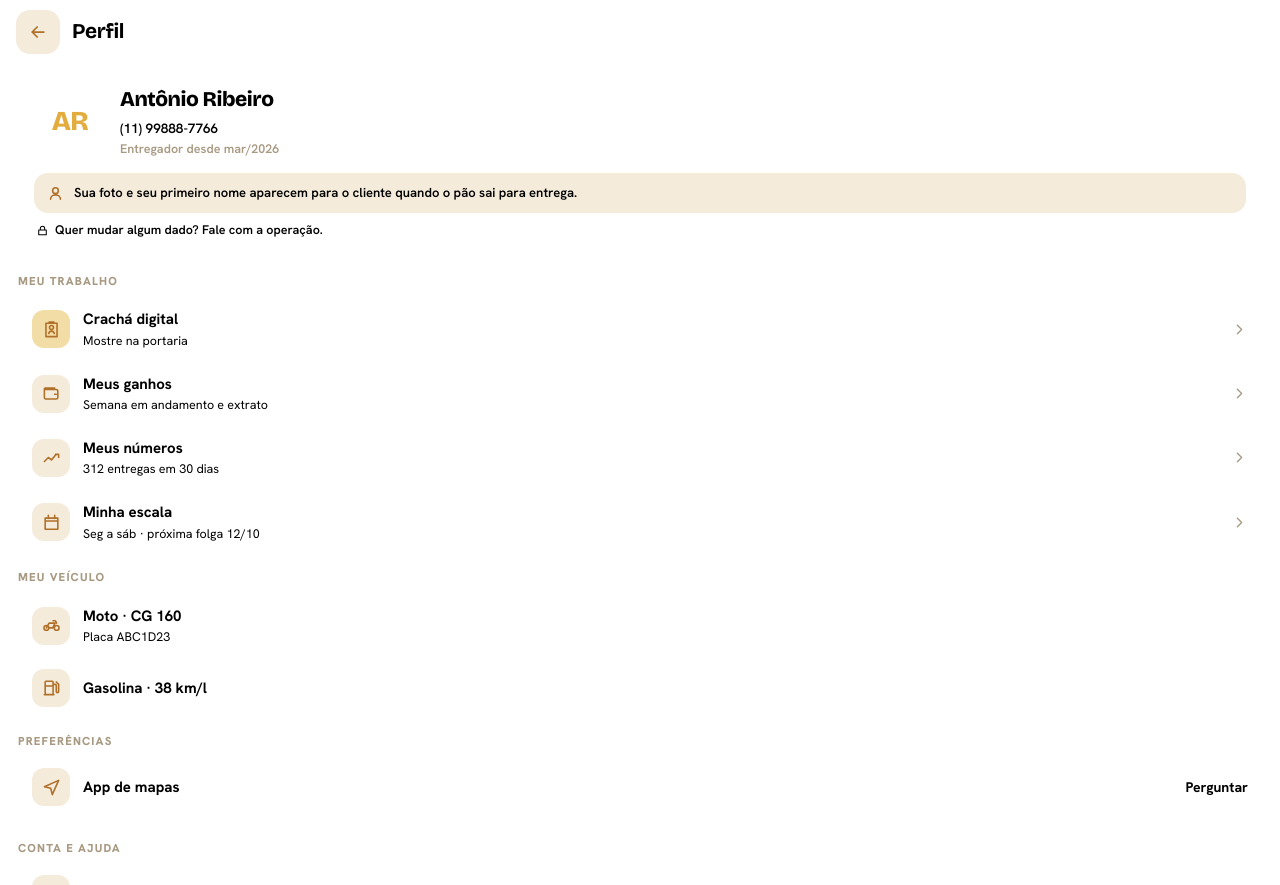
Test case: E14 · Perfil › app de mapas: escolhe e salva a preferência
Expected: the text "Perguntar" is shown, [1185,777,1248,798]
Click the button "App de mapas Perguntar".
click(51, 787)  # box [16,757,1264,817]
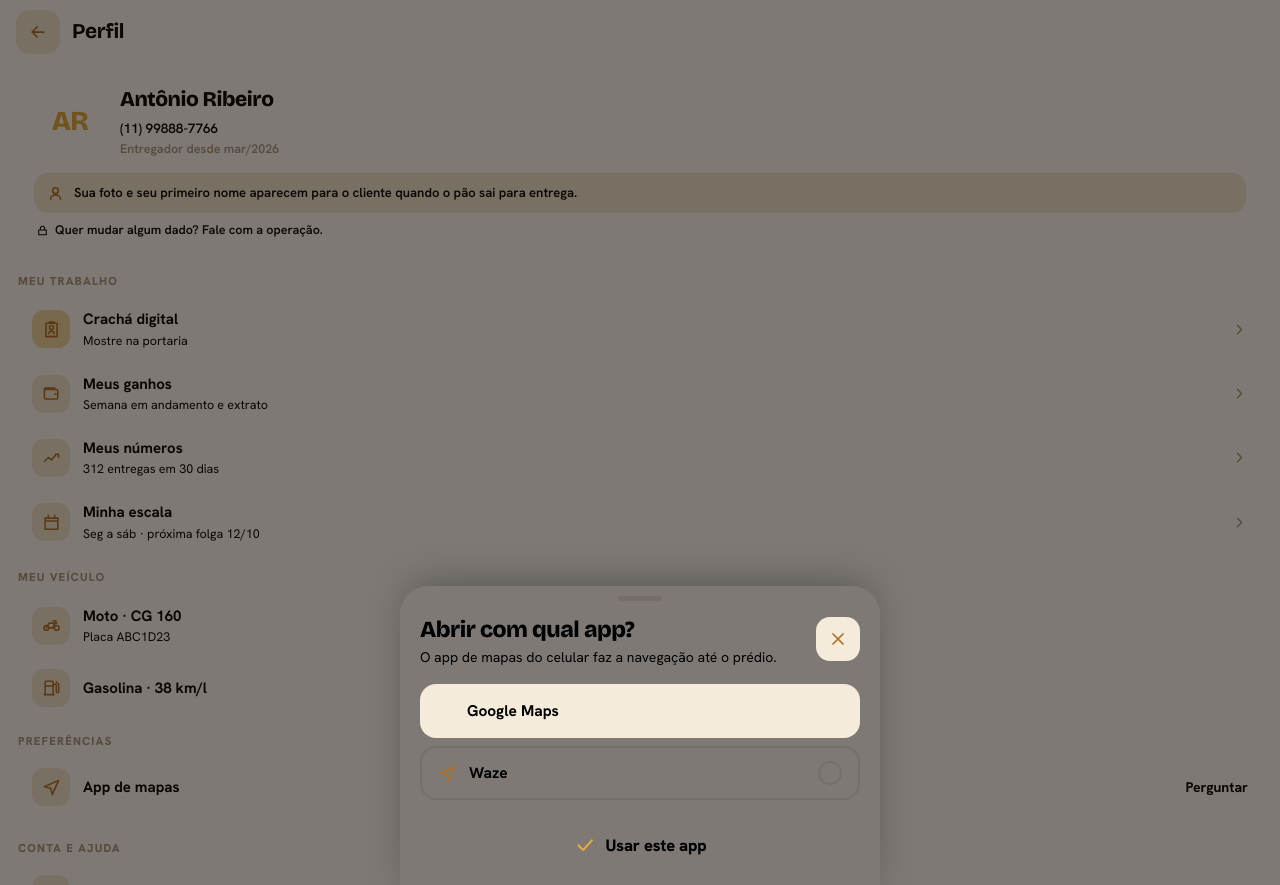
Click the button "Usar este app".
click(640, 845)  # box [420,816,860,874]
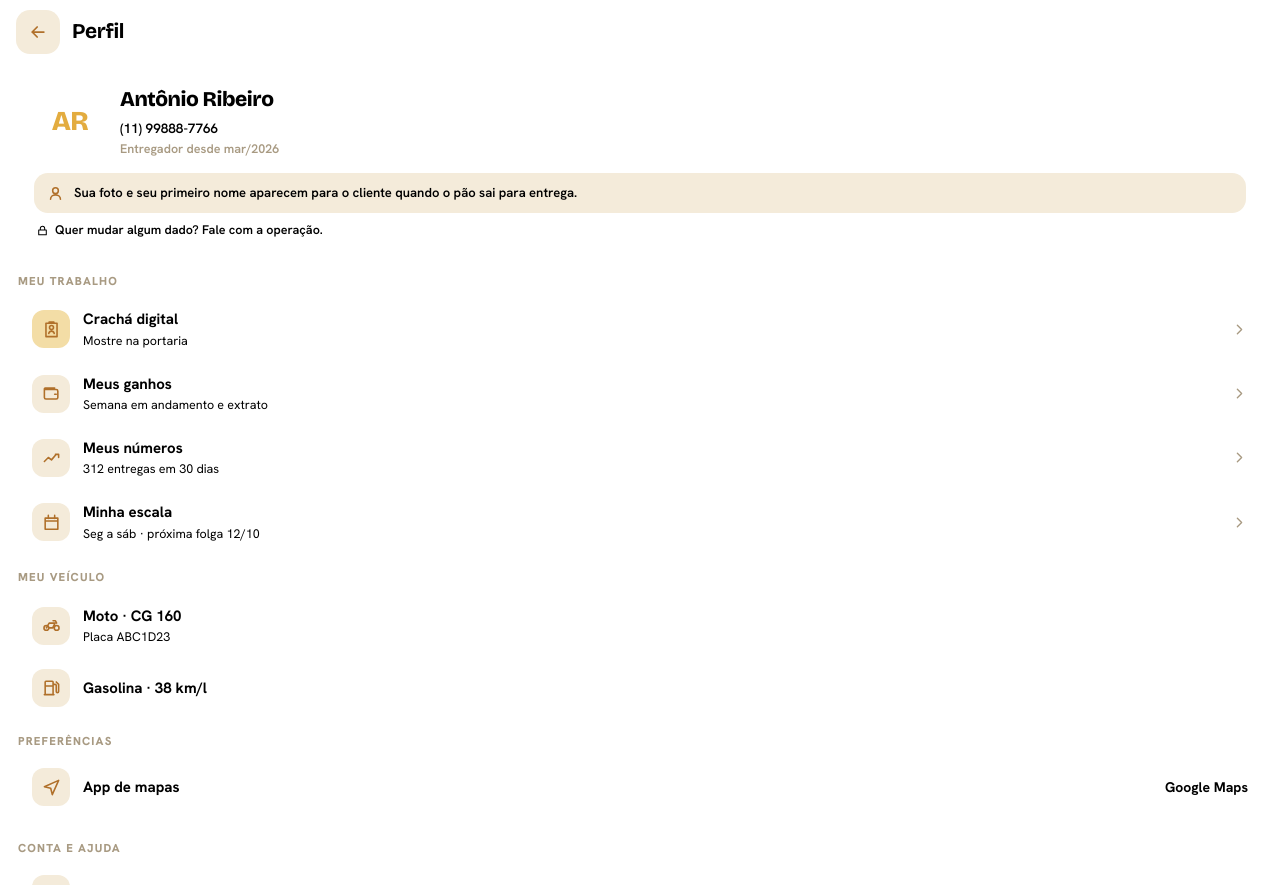
Expected: the heading "Abrir com qual app?" is gone
Expected: the button "Perguntar" is gone
